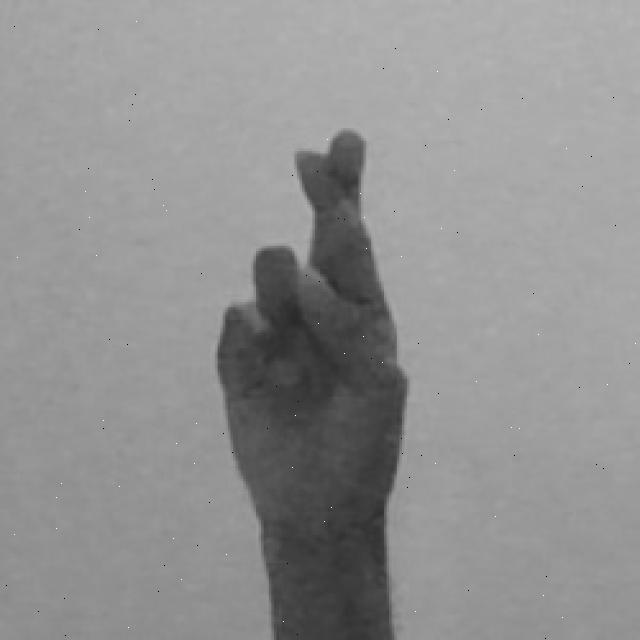R: (211, 125, 412, 640), (222, 124, 416, 640)
